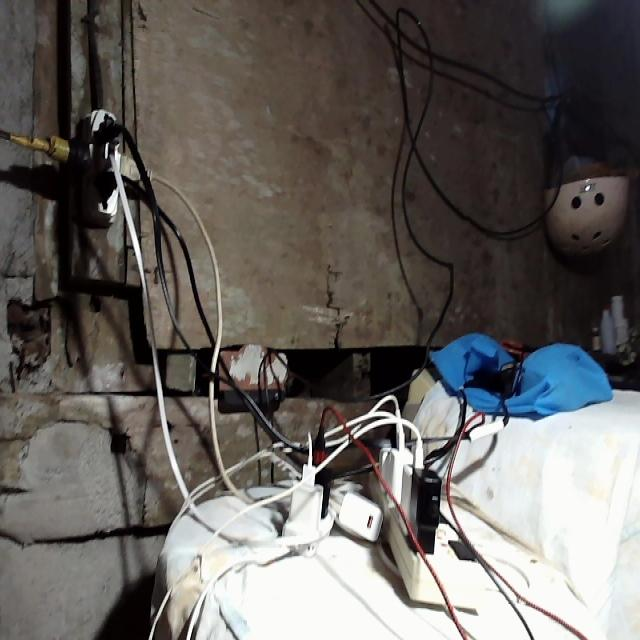-: (47, 104, 150, 229)
